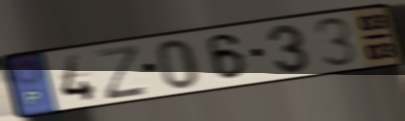0: (155, 37, 202, 91)
3: (313, 15, 359, 70), (266, 22, 311, 75)
4: (59, 52, 98, 103)
6: (205, 32, 249, 82)
Z: (92, 42, 152, 102)
